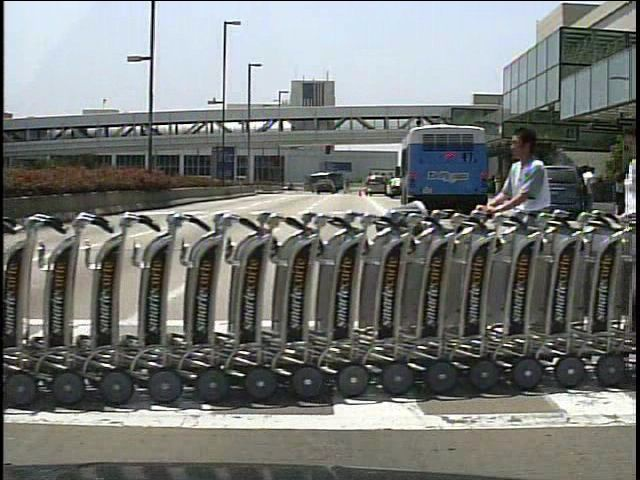person: (477, 126, 565, 363), (580, 165, 601, 214), (574, 163, 592, 220), (344, 176, 351, 196)
